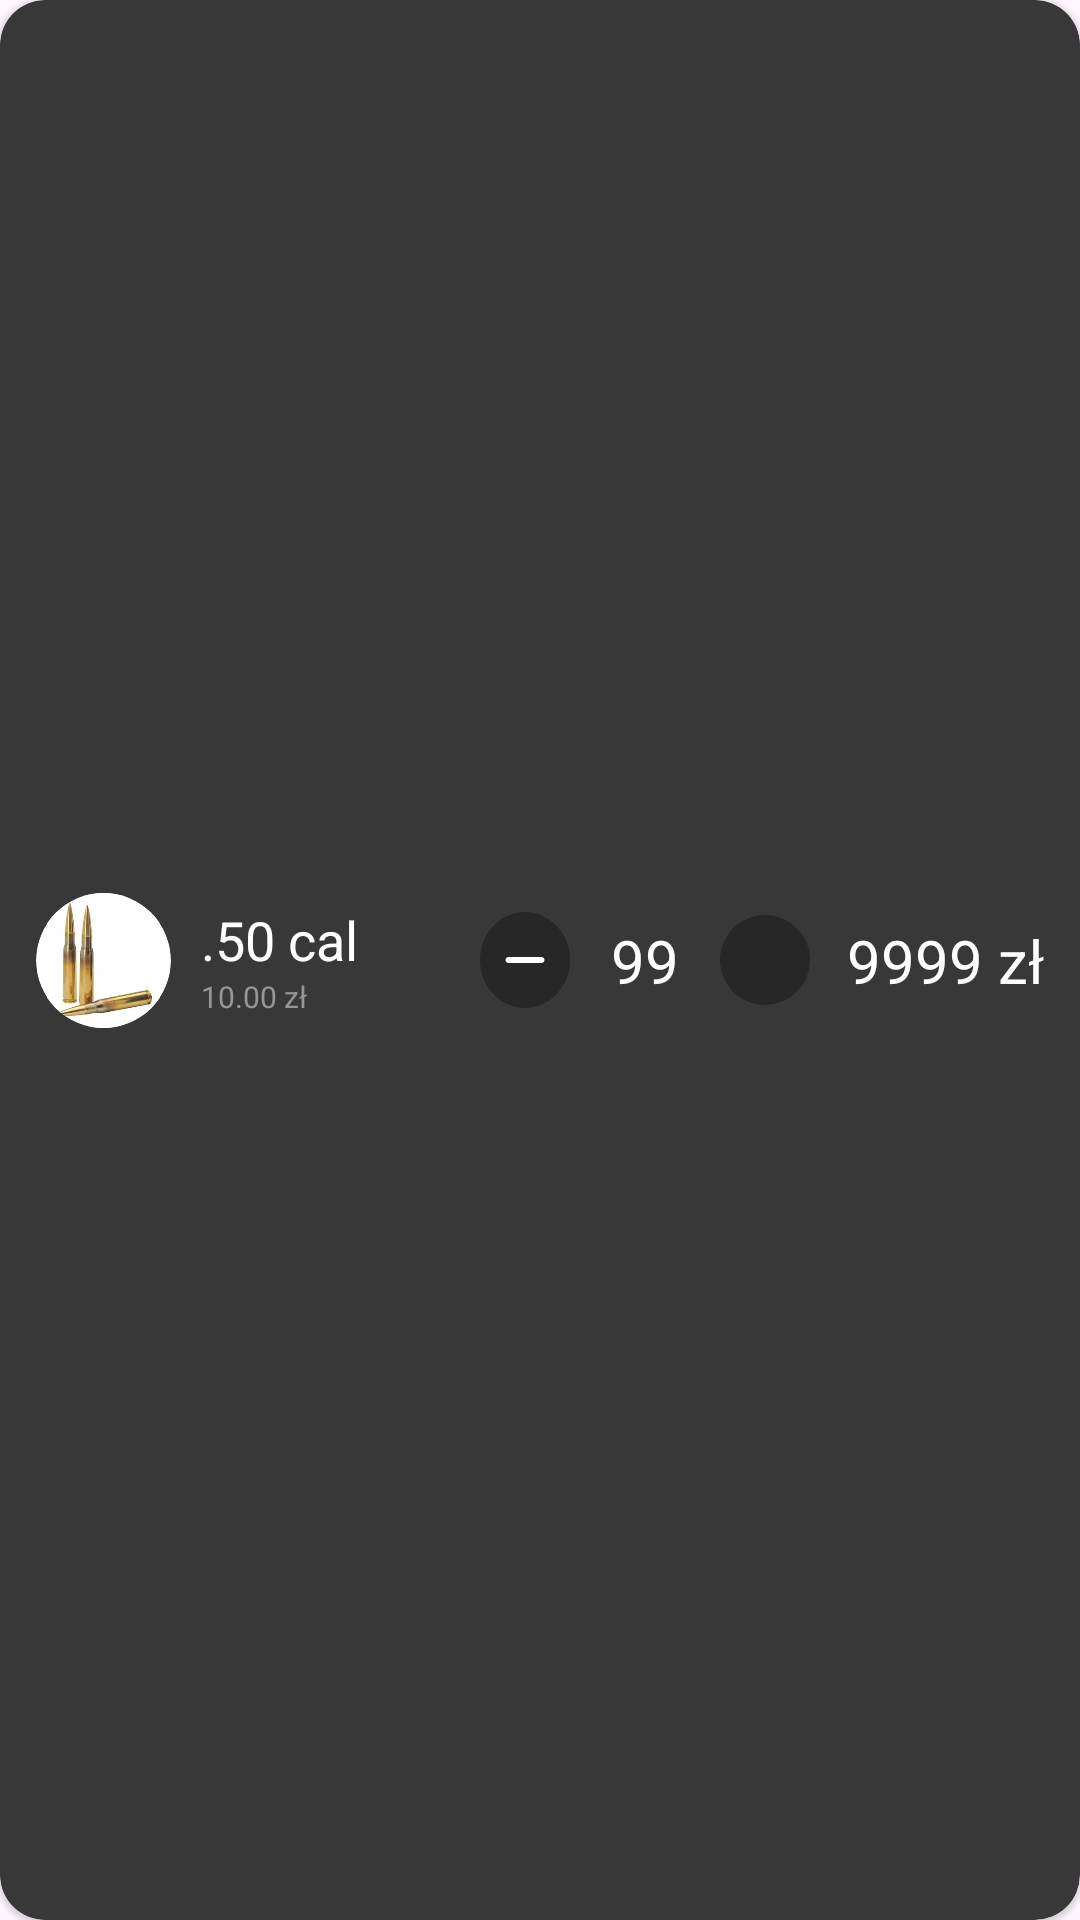

Locate icon controls on the screen. Image size 1080 x 1920, boxes as [x1,y1,x2,y2].
fity cal: [36,893,171,1028]
